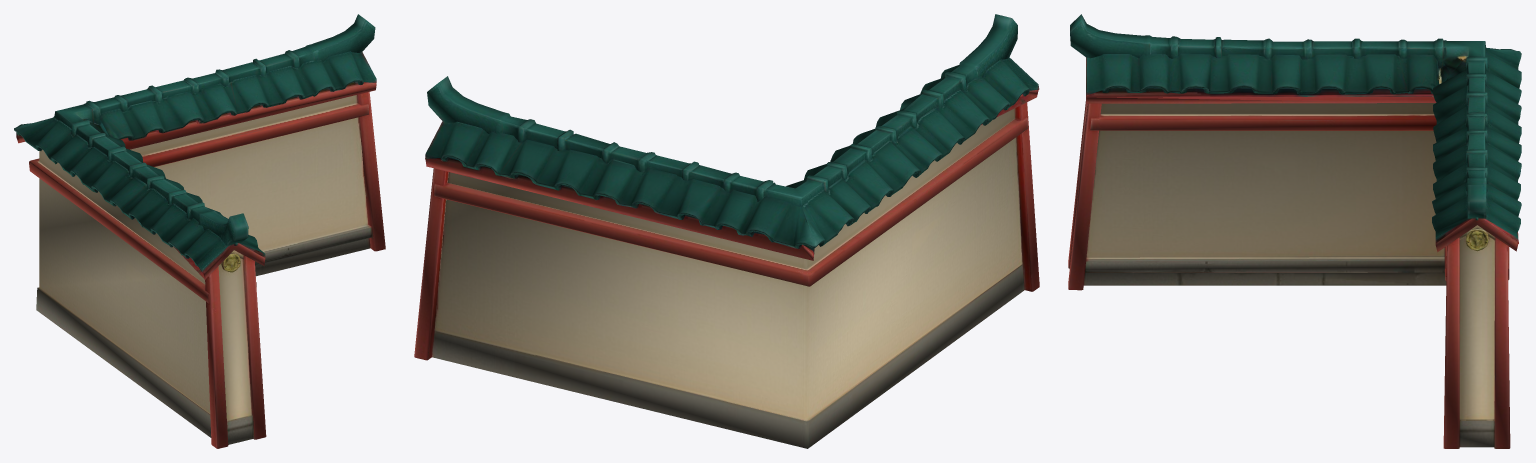
Rendered from tripo_convert_e91aa831-c7c6-4cf2-85d5-5459ff1a1a7d.fbx.
The picture shows the model from 3 angles, left to right: view 1: azimuth 30°, elevation 25°; view 2: azimuth 150°, elevation 25°; view 3: azimuth 270°, elevation 25°; orthographic projection. The views are drawn at different scales.
Visible parts, largest first — view 1: tripo_node_e91aa831; view 2: tripo_node_e91aa831; view 3: tripo_node_e91aa831.
Boxes of the visible parts, x1,y1,x2,y2 form: tripo_node_e91aa831: (14, 14, 385, 448); tripo_node_e91aa831: (414, 14, 1039, 448); tripo_node_e91aa831: (1068, 14, 1521, 448).
Size of the model in its own units: 0.998 by 0.627 by 0.998.
1 material, 1 textured.
